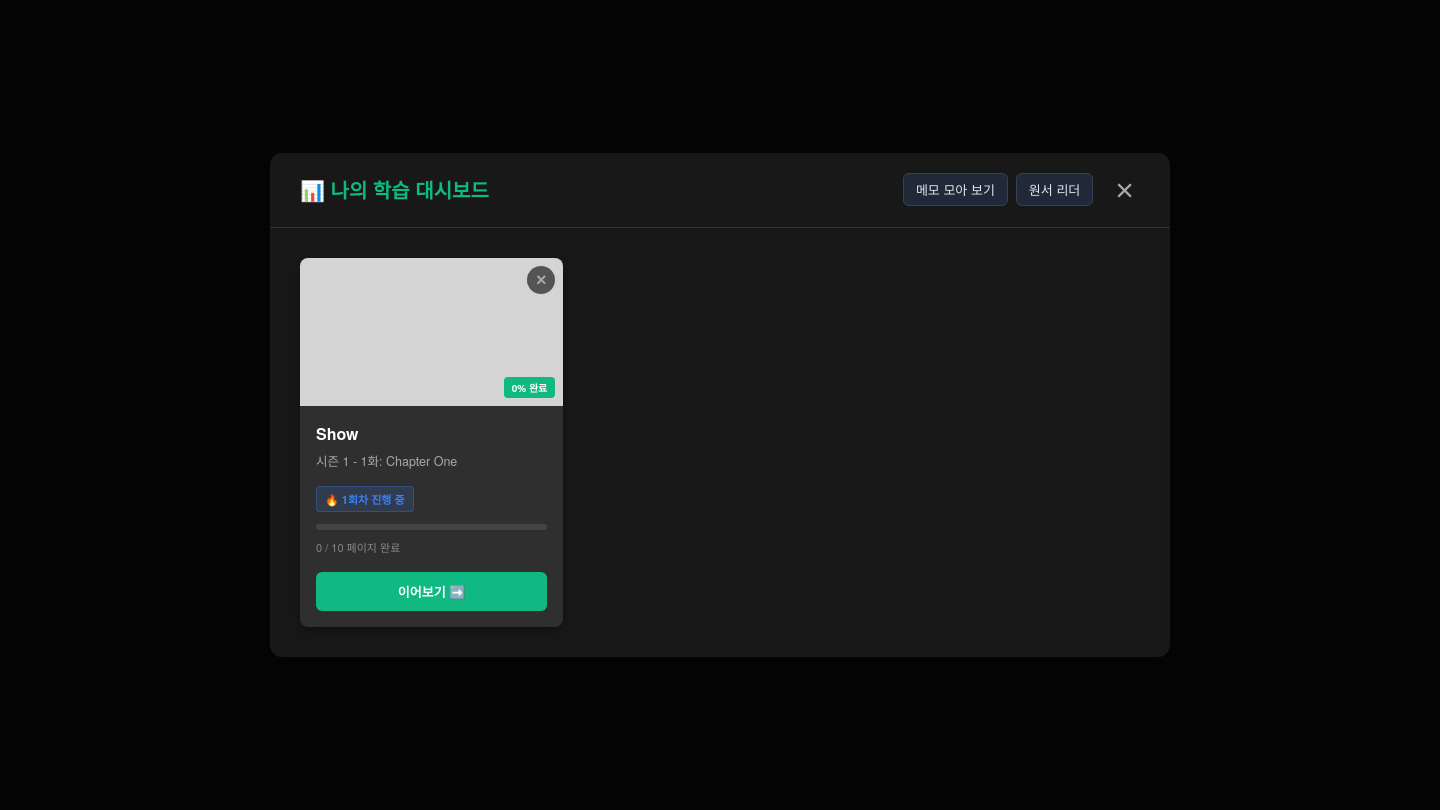
StudyDashboardModal Component › keeps the video memos in the shared store when deleting a studied video
Click the 2nd button titled "학습 기록 삭제". click: (541, 280)
box: [527,266,555,294]
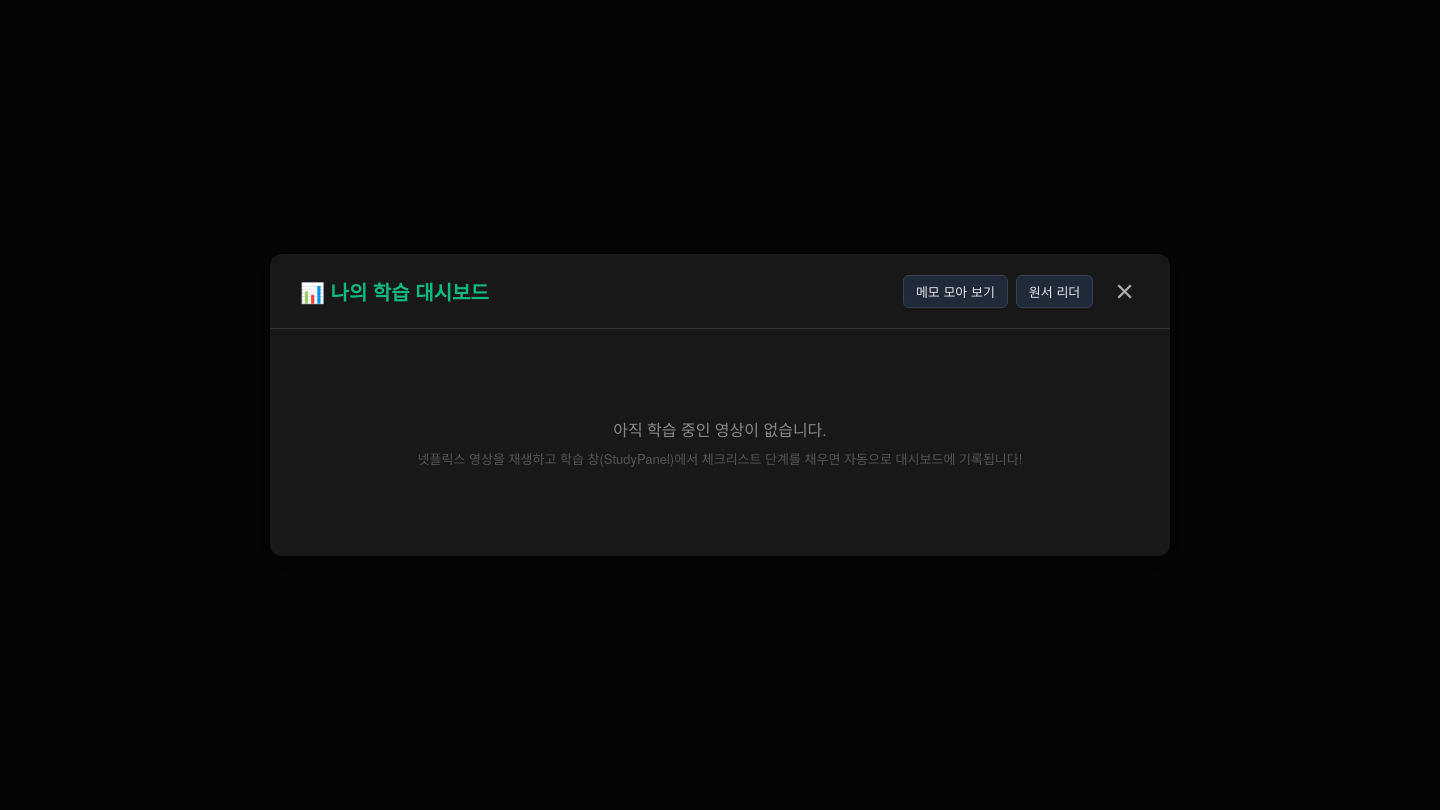
Now the heading "Show" is gone
